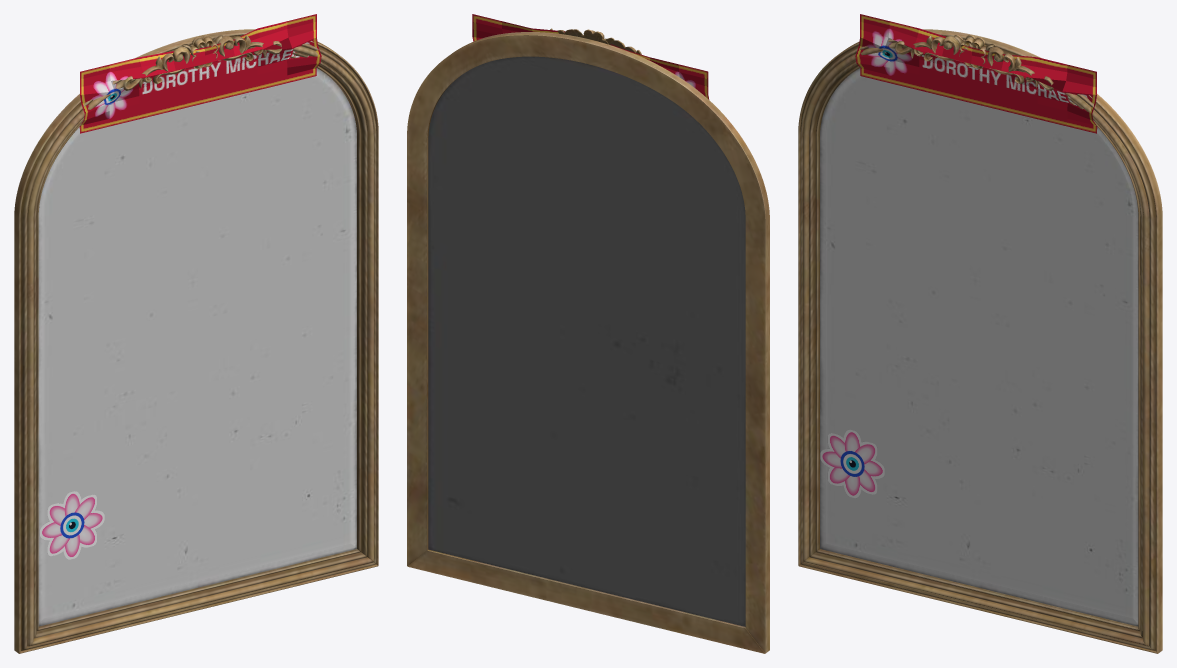
The model's file is nyb_tootsie_mirror.glb.
3 renders of one model, left to right at view 1: azimuth 30°, elevation 25°; view 2: azimuth 150°, elevation 25°; view 3: azimuth 330°, elevation 25°, orthographic.
Visible parts, largest first — view 1: ornate_mirror_01, stk_lbl_78d0f18510.png, stk_eyeflower_die.png; view 2: ornate_mirror_01, stk_lbl_78d0f18510.png; view 3: ornate_mirror_01, stk_lbl_78d0f18510.png, stk_eyeflower_die.png.
Part boxes in pixels (x1,y1,x2,y2): ornate_mirror_01: [14, 29, 378, 653]; stk_lbl_78d0f18510.png: [79, 14, 321, 133]; stk_eyeflower_die.png: [40, 491, 104, 559]; ornate_mirror_01: [407, 28, 769, 653]; stk_lbl_78d0f18510.png: [472, 14, 709, 99]; ornate_mirror_01: [798, 29, 1162, 653]; stk_lbl_78d0f18510.png: [855, 14, 1097, 133]; stk_eyeflower_die.png: [820, 429, 884, 498].
Bounding box in the file's own units: 0.4865 × 0.7442 × 0.0269.
3 materials, 3 textured.
